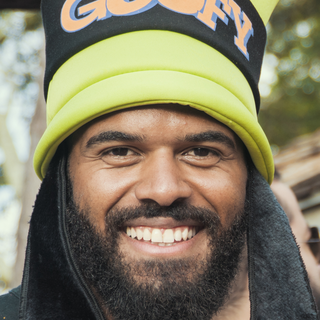eye: (175, 141, 230, 166), (94, 143, 147, 163)
